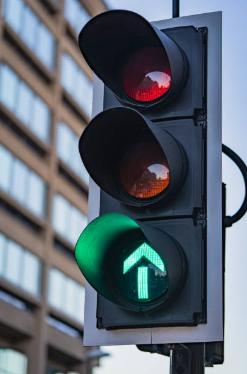green_light: (75, 9, 224, 347)
